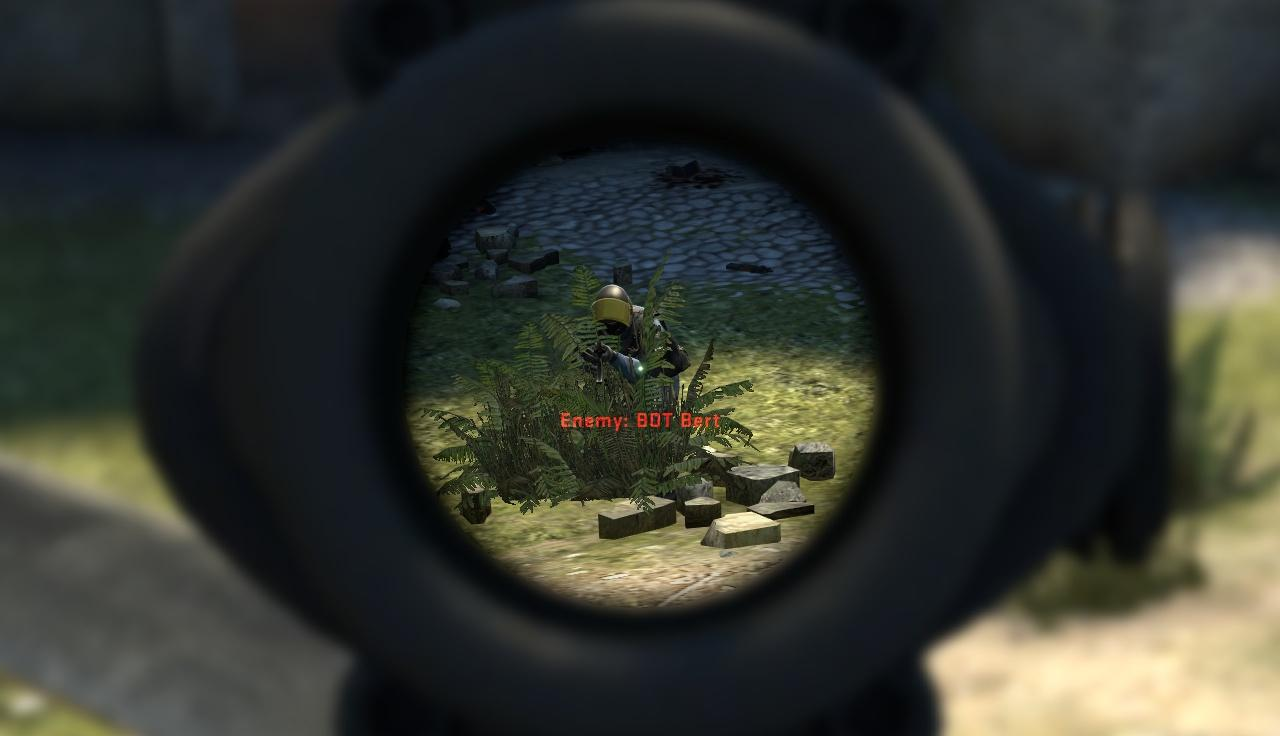cthead: (595, 287, 635, 335)
